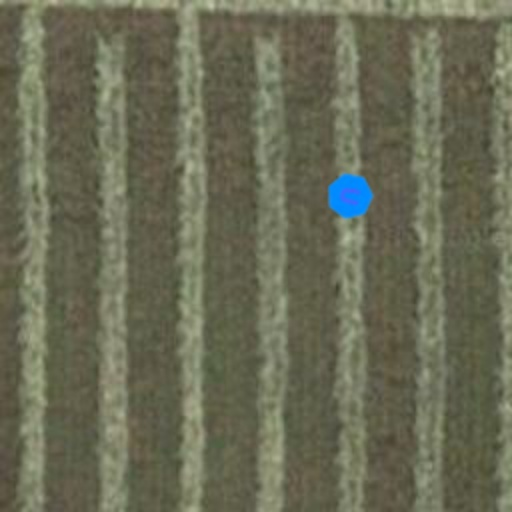heptagon: (322, 168, 378, 224)
